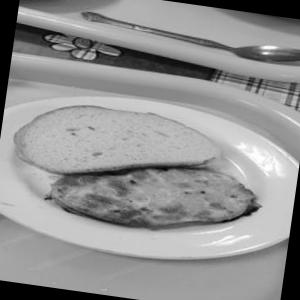bread: (2, 76, 228, 192)
cheese_sandwich: (39, 133, 262, 255)
